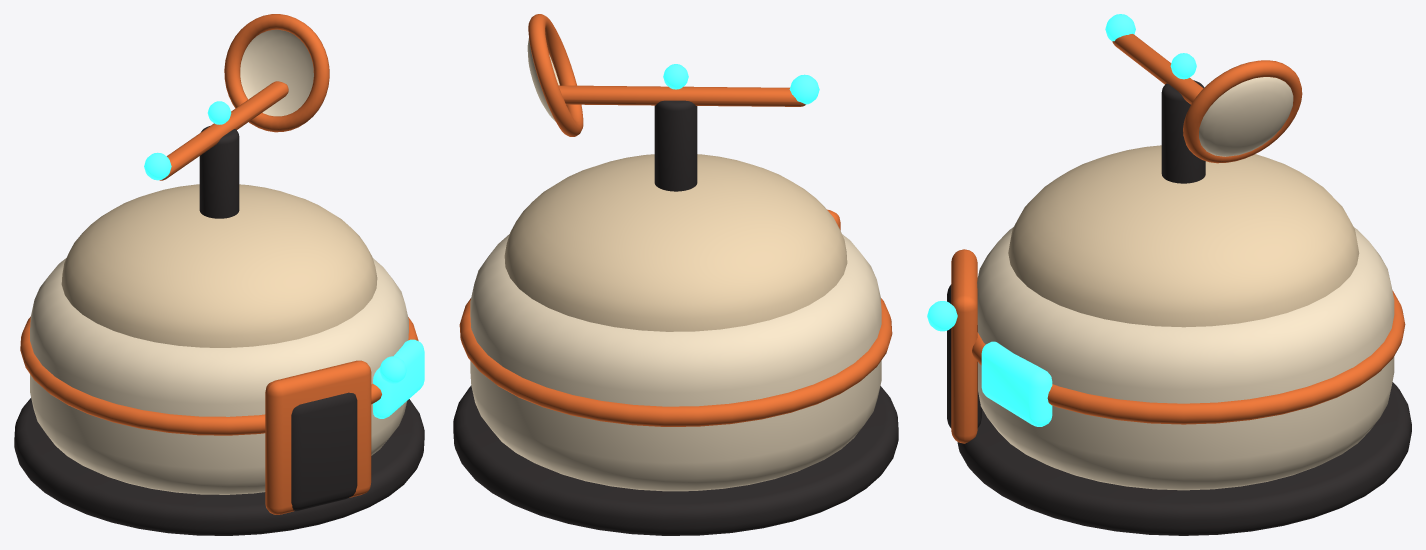
Rendered from geolocator-old.glb.
3 views of the same model, side by side, from view 1: azimuth 30°, elevation 25°; view 2: azimuth 150°, elevation 25°; view 3: azimuth 270°, elevation 25° (orthographic). The views are drawn at different scales.
Parts seen in each view (by area): view 1: Sphere.001, Cylinder.001, Cylinder, Cube, Cube.001, Torus, Torus.001, Sphere.002, Cylinder.002, Cube.003, Cube.002, Sphere (+1 smaller); view 2: Cylinder.001, Sphere.001, Cylinder, Torus, Cube.003, Cylinder.002, Torus.001, Sphere.003, Sphere.004; view 3: Cylinder.001, Sphere.001, Cylinder, Torus, Sphere.002, Cube, Cube.002, Torus.001, Cylinder.002, Cube.003, Cube.001, Sphere (+1 smaller).
Part boxes in pixels (box(x1,y1,x2,y2)): Sphere.001: box(61, 184, 377, 347); Cylinder.001: box(30, 258, 408, 494); Cylinder: box(14, 398, 424, 535); Cube: box(265, 360, 371, 514); Cube.001: box(291, 392, 357, 511); Torus: box(20, 316, 418, 435); Torus.001: box(224, 14, 329, 132); Sphere.002: box(240, 29, 313, 116); Cylinder.002: box(199, 126, 239, 218); Cube.003: box(159, 81, 288, 180); Cube.002: box(373, 339, 424, 418); Sphere: box(379, 356, 406, 383); Cylinder.001: box(470, 234, 881, 491); Sphere.001: box(504, 154, 847, 331); Cylinder: box(453, 385, 898, 535); Torus: box(459, 298, 892, 426); Cube.003: box(558, 85, 805, 106); Cylinder.002: box(654, 100, 697, 191); Torus.001: box(528, 14, 583, 136); Sphere.003: box(789, 74, 819, 104); Sphere.004: box(663, 64, 688, 89); Cylinder.001: box(977, 227, 1394, 490); Sphere.001: box(1008, 145, 1359, 327); Cylinder: box(957, 382, 1411, 535); Torus: box(972, 290, 1405, 424); Sphere.002: box(1199, 77, 1293, 156); Cube: box(951, 249, 977, 443); Cube.002: box(981, 341, 1052, 426); Torus.001: box(1183, 60, 1302, 163); Cylinder.002: box(1161, 80, 1205, 183); Cube.003: box(1112, 34, 1203, 104); Cube.001: box(947, 284, 981, 428); Sphere: box(927, 301, 957, 331).
Size of the model in its own units: 1.04 by 1.09 by 1.11.
